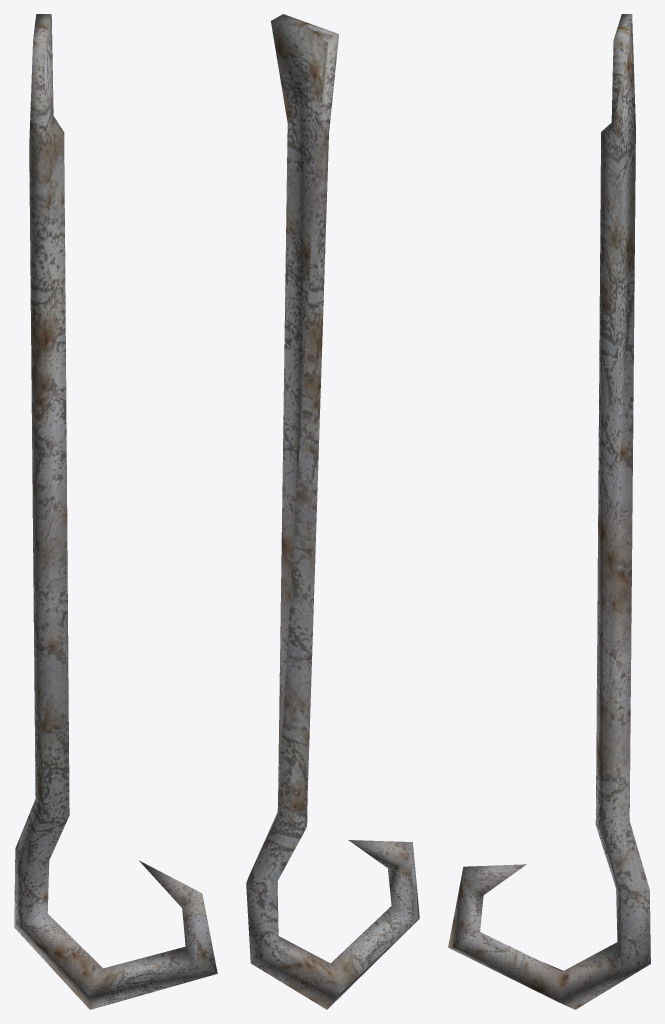
Rendered from GUI_hook.FBX.
The picture shows the model from 3 angles, left to right: view 1: azimuth 90°, elevation 25°; view 2: azimuth 150°, elevation 25°; view 3: azimuth 270°, elevation 25°; orthographic projection. The views are drawn at different scales.
Visible parts, largest first — view 1: default; view 2: default; view 3: default.
Boxes of the visible parts, x1=… form: default: x1=14, y1=14, x2=217, y2=1009; default: x1=246, y1=14, x2=419, y2=1009; default: x1=448, y1=14, x2=650, y2=1009.
Size of the model in its own units: 15.68 by 163 by 30.63.
